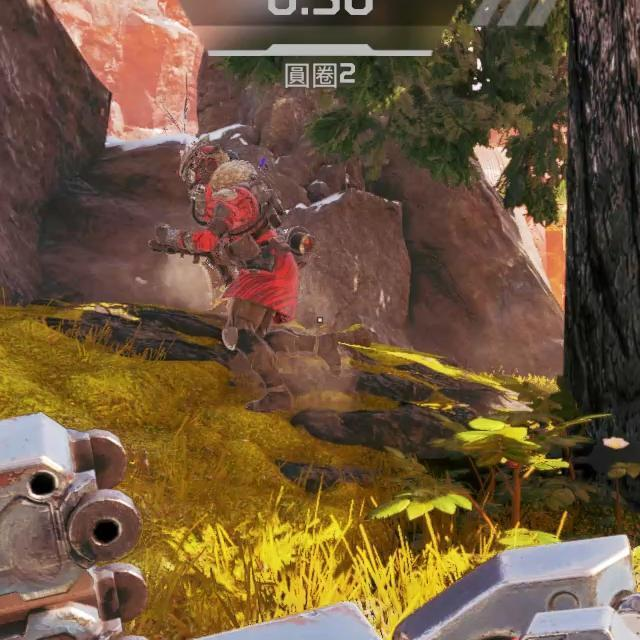avatar: (179, 138, 302, 417)
